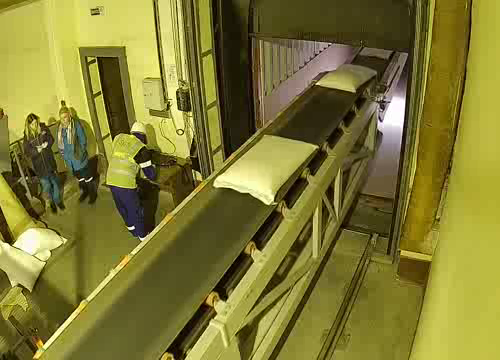bag: (211, 134, 319, 205), (316, 64, 378, 93), (359, 48, 392, 60)
